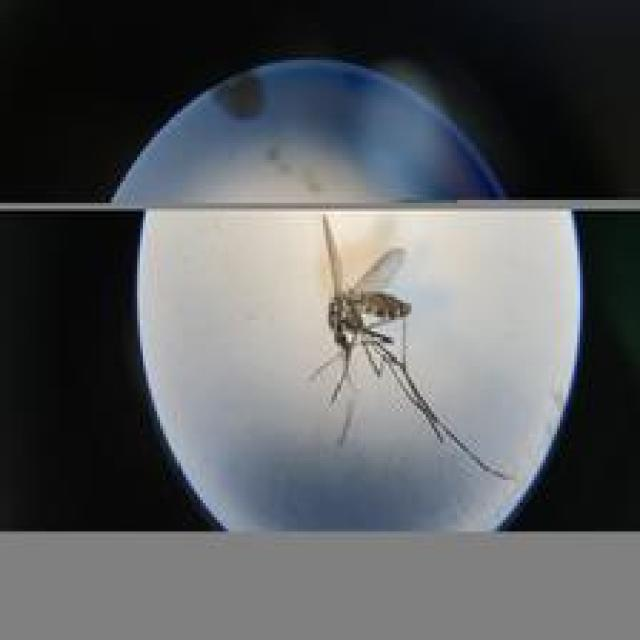Aedes albopictus: (307, 213, 516, 481)
